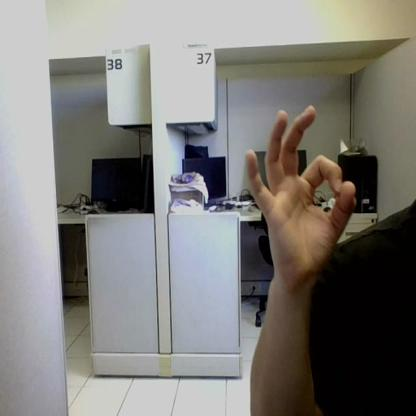F: (246, 105, 355, 281)
